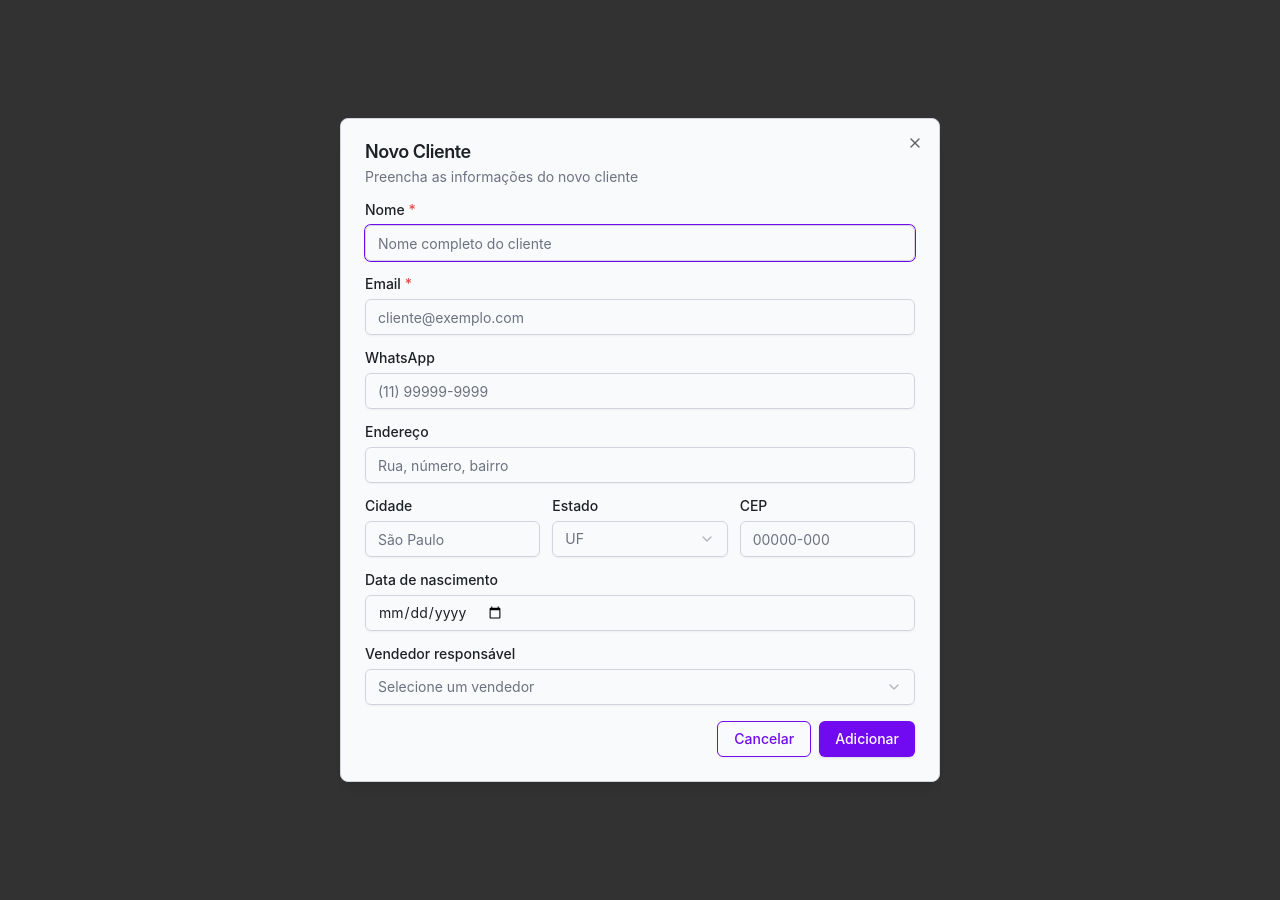
Test: FormularioCliente › validation › deve validar formato de CEP inválido
In the field labelled "Nome *": {"x": 640, "y": 243} [365,225,915,261], type "João Silva"
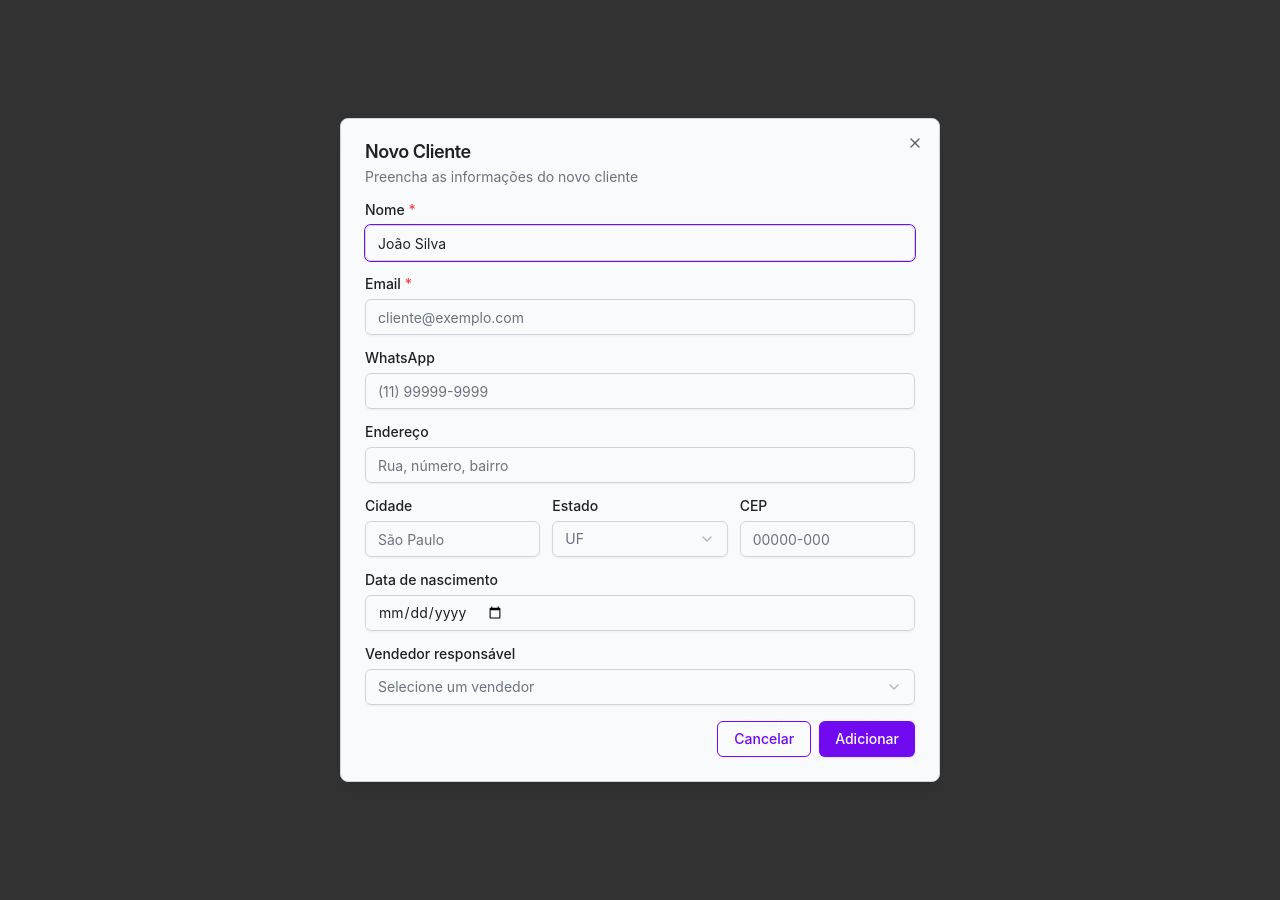
In the field labelled "Email *": {"x": 640, "y": 317} [365,299,915,335], type "joao@example.com"
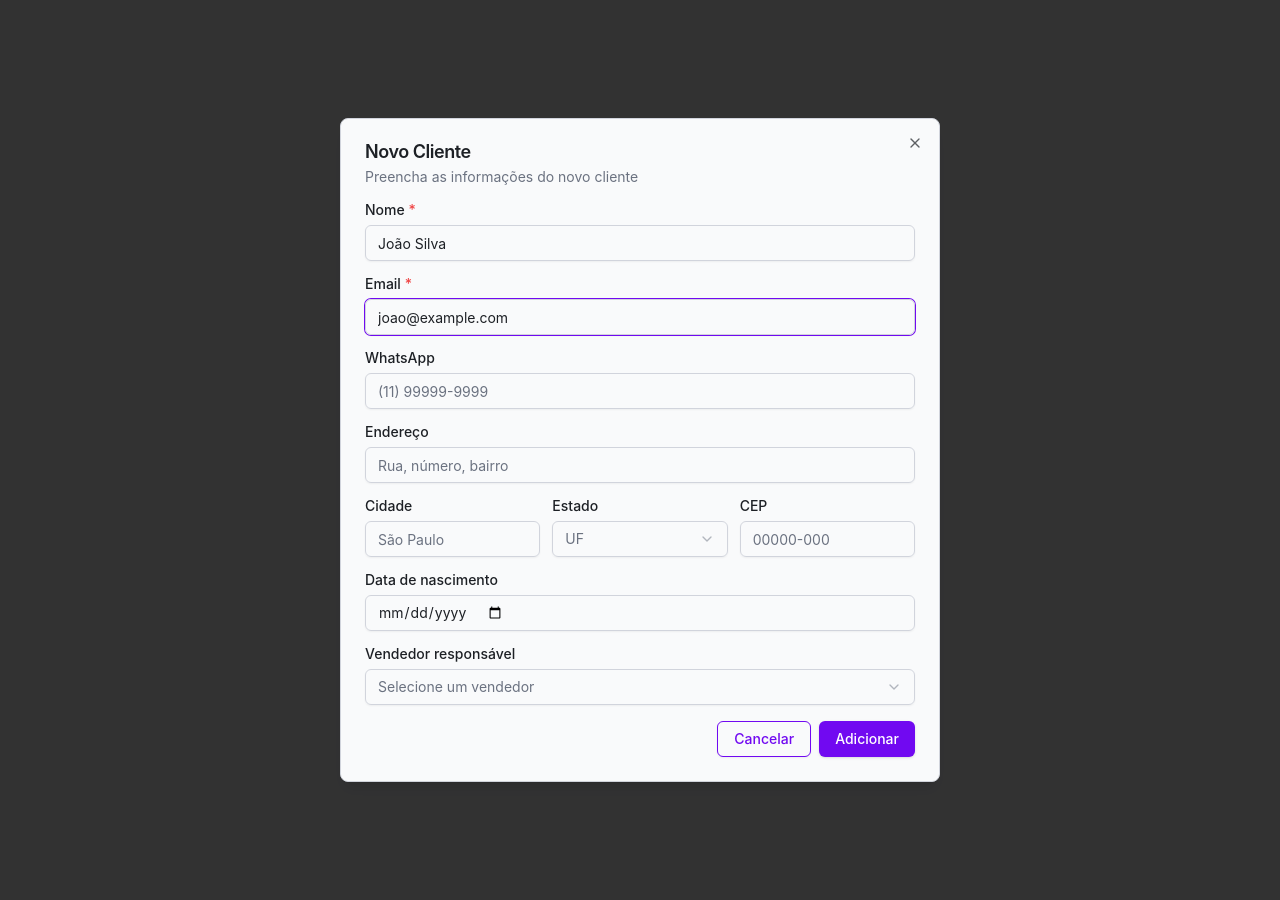
In the field labelled "CEP": {"x": 827, "y": 539} [740,521,915,557], type "123"
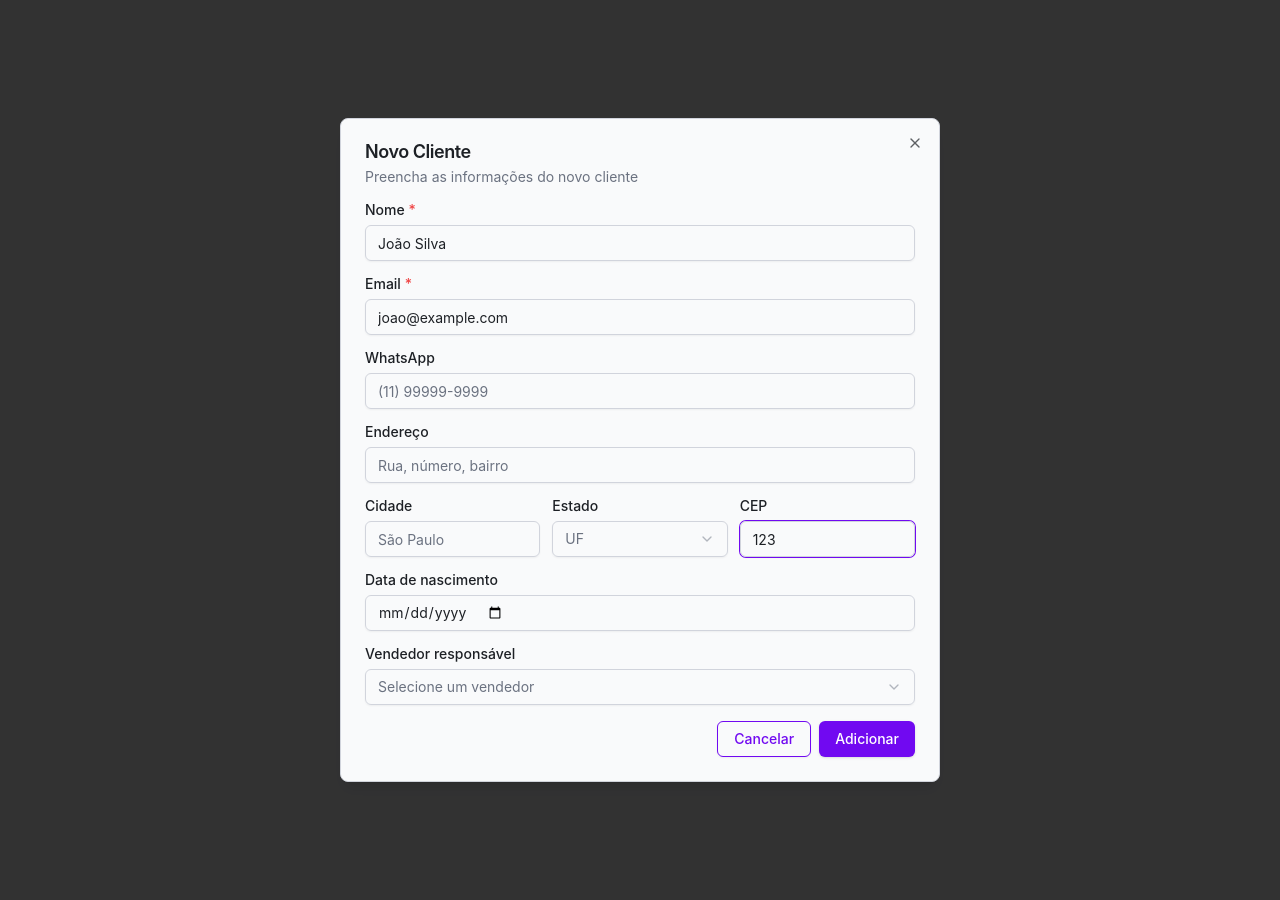
Click the button "Adicionar": {"x": 867, "y": 739} [819,721,915,757]
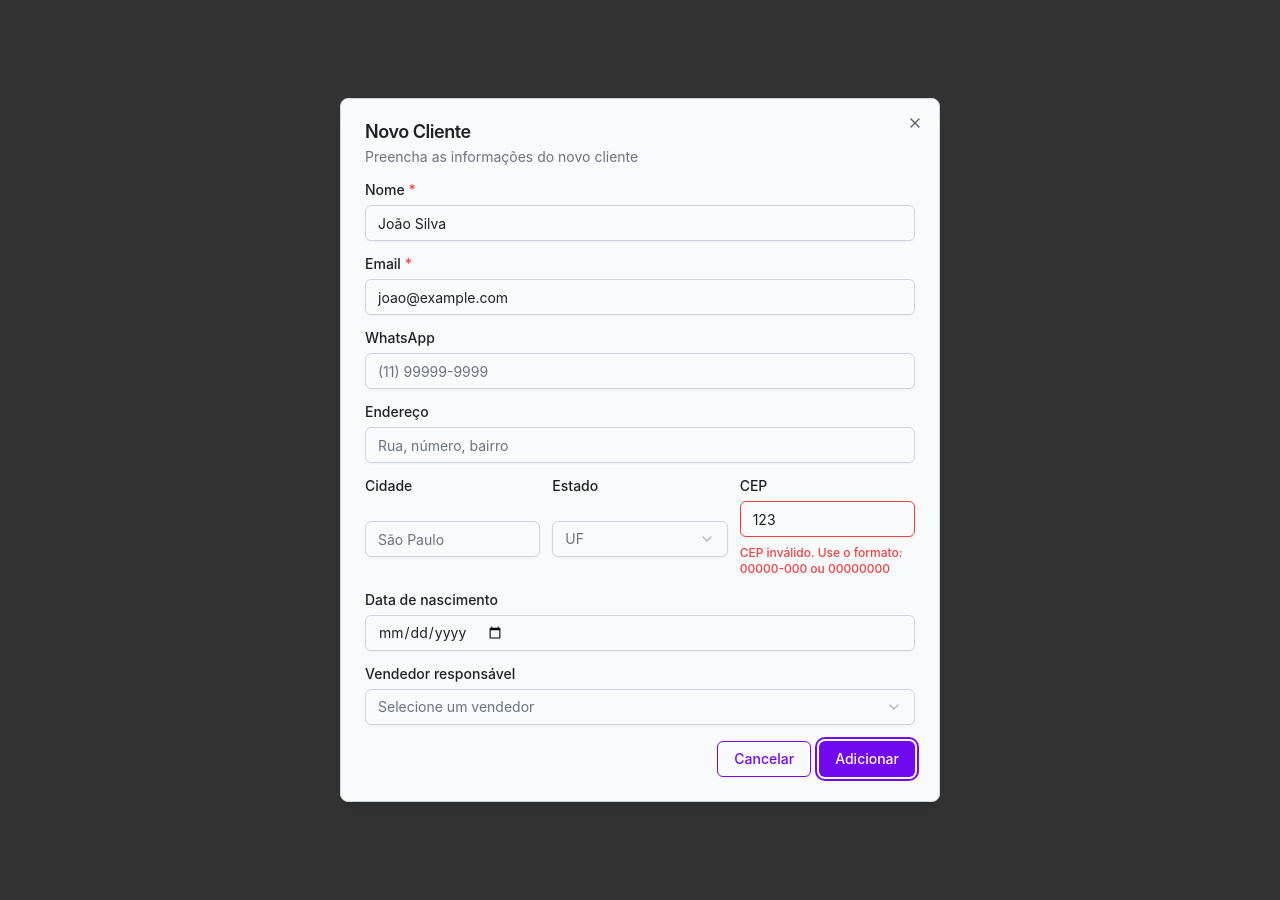
Result: the text "CEP inválido. Use o formato: 00000-000 ou 00000000" is shown at [740,545,915,577]
